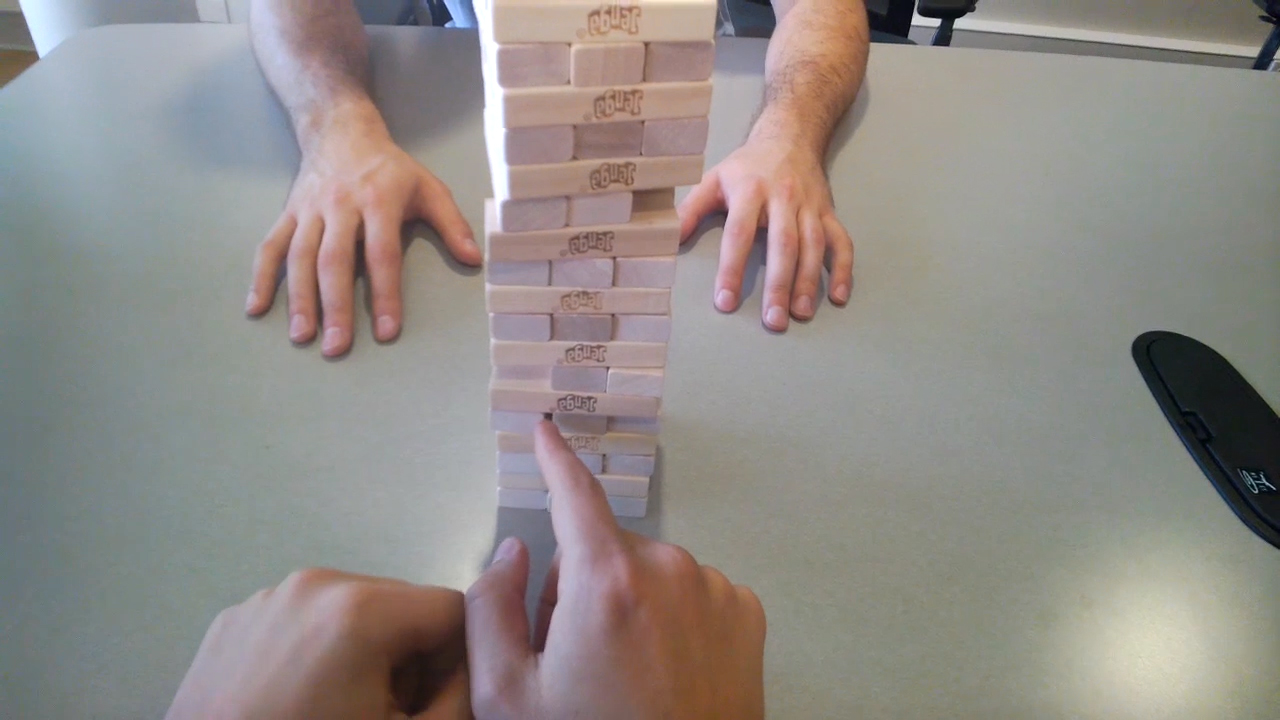hand: (469, 426, 761, 715), (257, 149, 472, 350), (170, 572, 468, 716), (683, 143, 847, 317)
